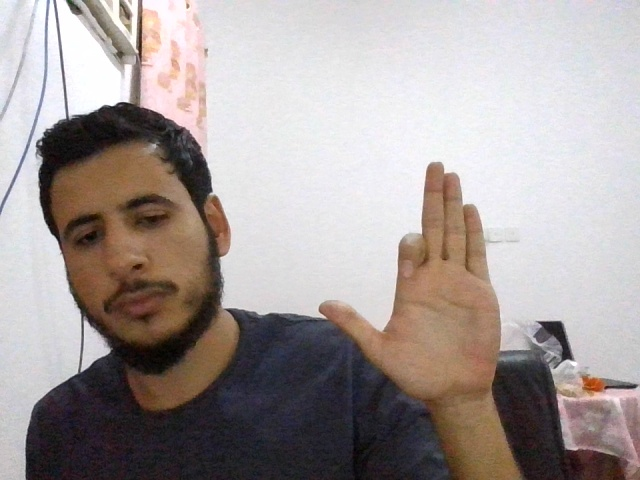Four: (318, 160, 503, 403)
